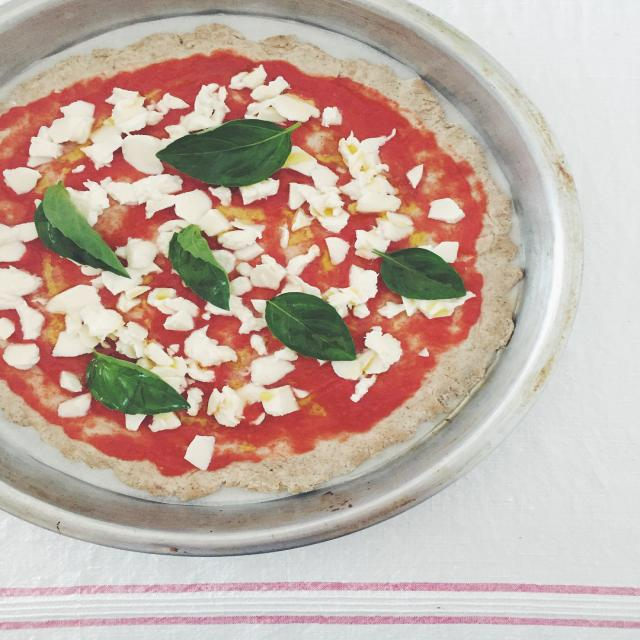basil: (153, 115, 303, 188), (28, 179, 133, 281), (84, 347, 190, 417), (261, 290, 359, 363), (166, 223, 236, 312), (364, 243, 470, 300)
pizza: (0, 25, 519, 499)
